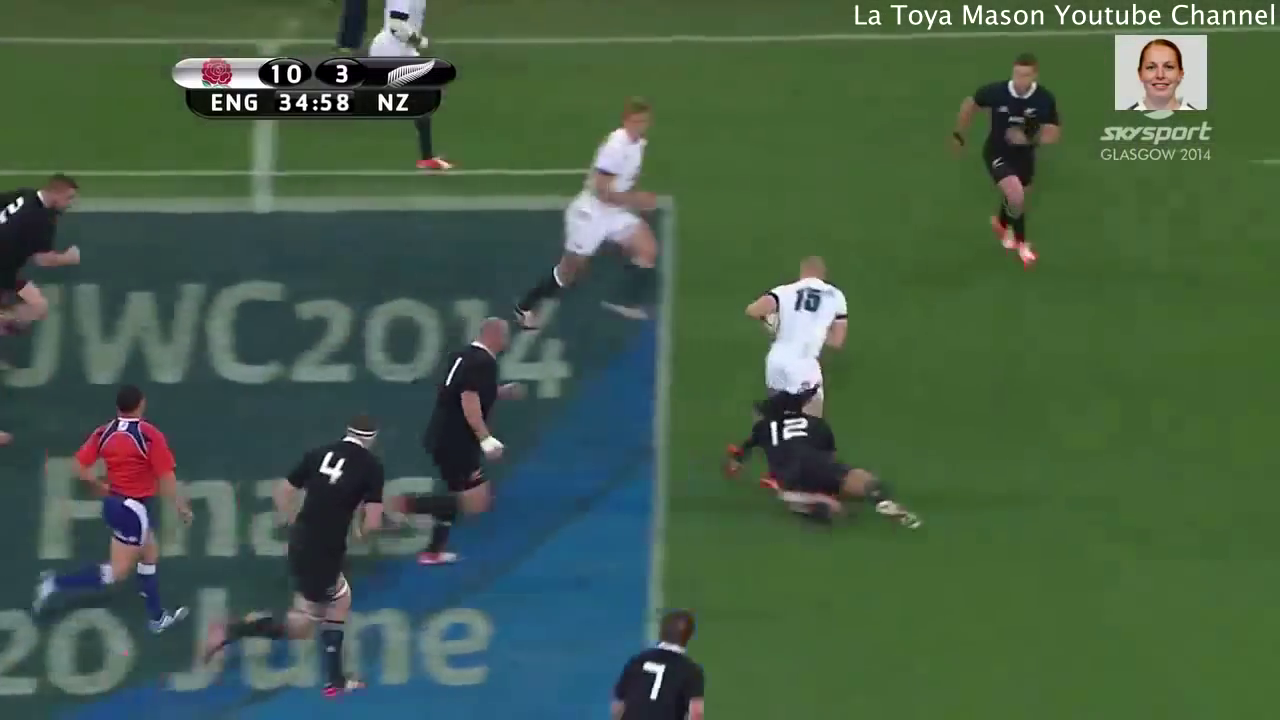player: (211, 416, 385, 695), (41, 382, 197, 644), (370, 312, 520, 570), (513, 102, 669, 332), (717, 404, 938, 533), (941, 51, 1055, 276), (726, 255, 857, 396), (1, 171, 93, 339), (599, 608, 715, 720)
